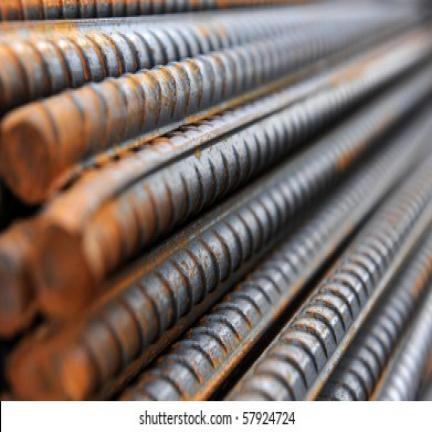besi_tidak_karat: (159, 63, 431, 327), (227, 136, 431, 401), (113, 0, 429, 138)
karat: (0, 81, 132, 407)
